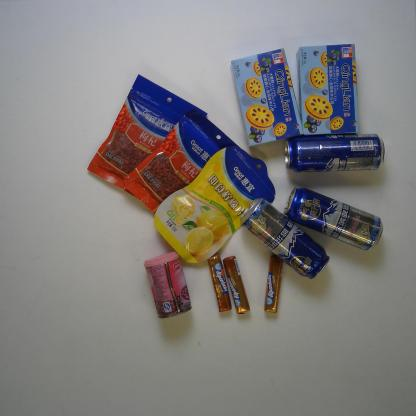Alcohol: (237, 197, 330, 281), (282, 186, 384, 252), (284, 131, 386, 175)
Candy: (222, 255, 251, 315), (206, 254, 232, 314), (263, 254, 286, 314)
Canned Food: (142, 251, 193, 320)
Dessert: (230, 47, 304, 148), (295, 42, 362, 137)
Dried Fruit: (86, 73, 208, 198), (152, 146, 276, 264), (122, 108, 236, 214)
